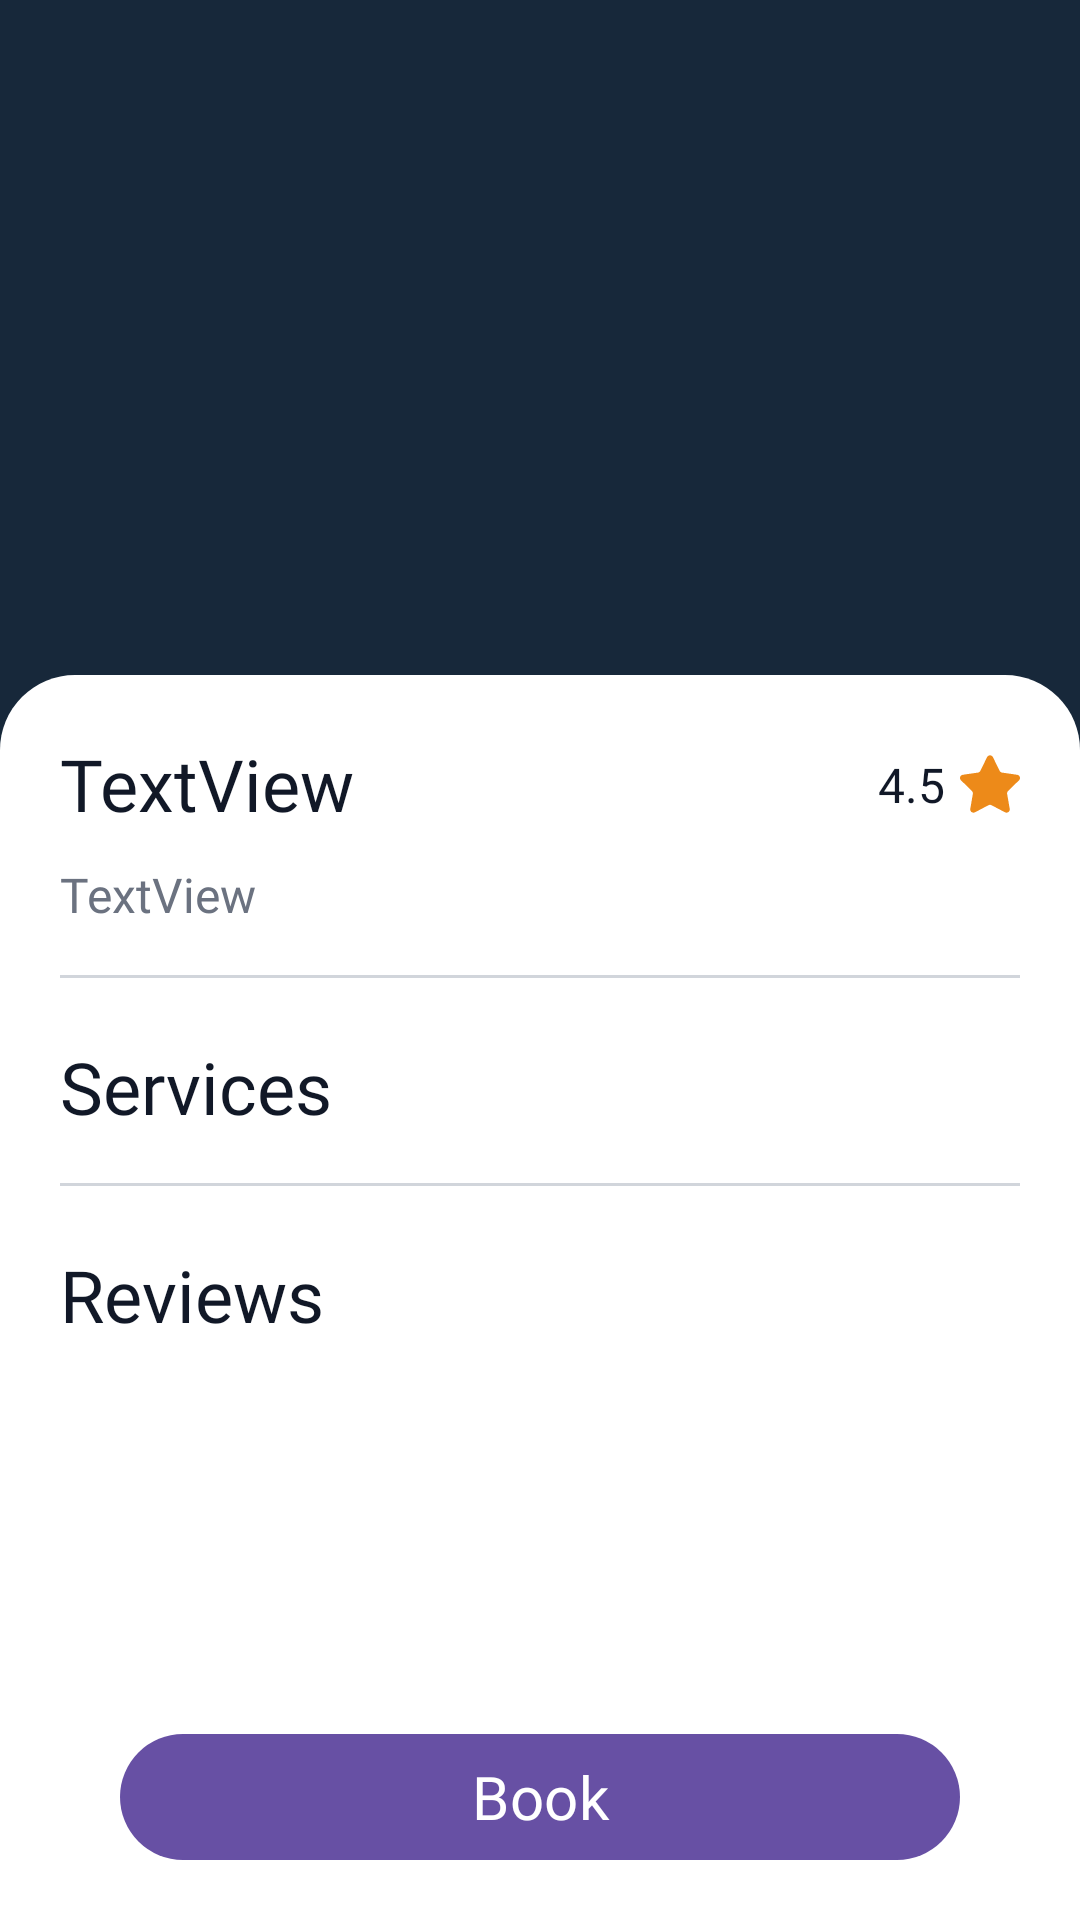

Where icons sit on this 1080 x 1920 app screen, as (x1, y1, x2, y2):
star: (960, 755, 1020, 813)
